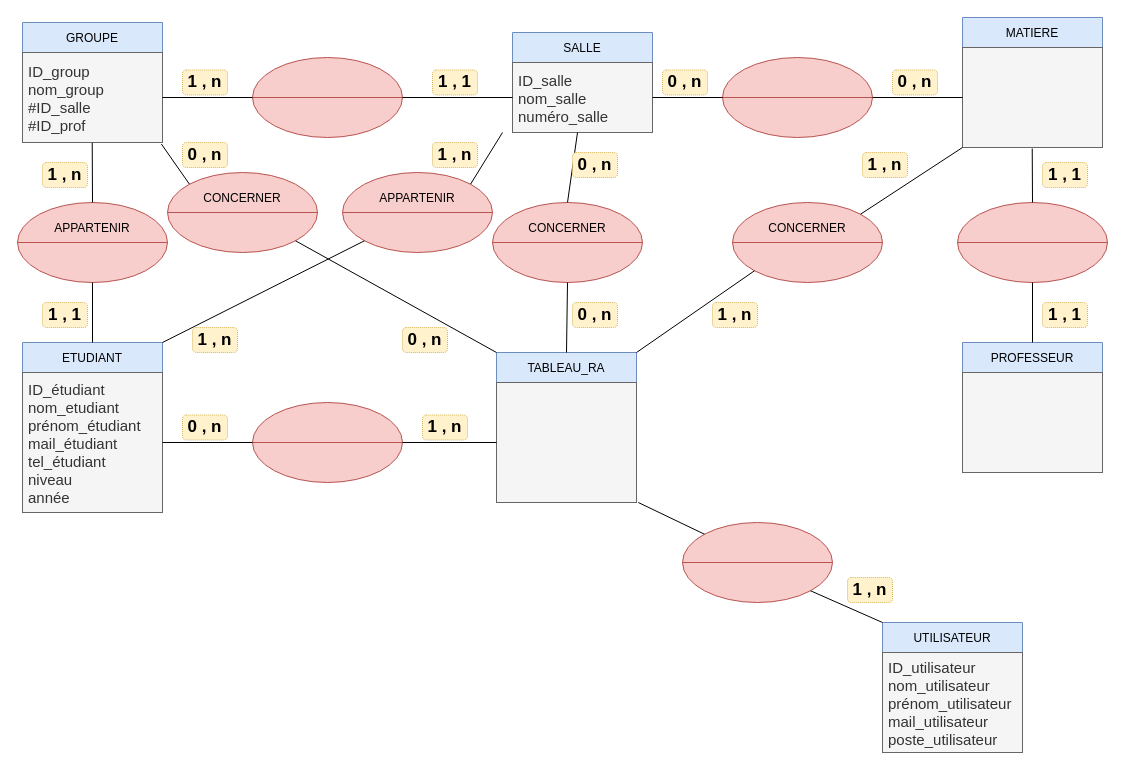
The diagram is 1125 pixels wide and 770 high, and some of its shapes have lost their labels. The centre of each missing label's shape, as x and y in pixels:
ACCEDER: the point at 757,562
COMPRENDRE: the point at 327,97
ENSEIGNER: the point at 1032,242
ETRE: the point at 327,442
ID_matière nom_matière date #ID_salle #ID_prof: the point at 1032,97
ID_prof nom_prof prénom_prof mail_prof tel_prof: the point at 1032,422
ID_RA état_absence date #ID_salle #ID_group #ID_matière: the point at 566,442
INCLURE: the point at 797,97
